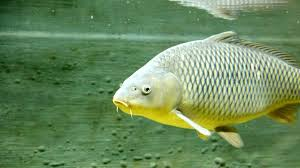carp: (112, 30, 300, 150)
